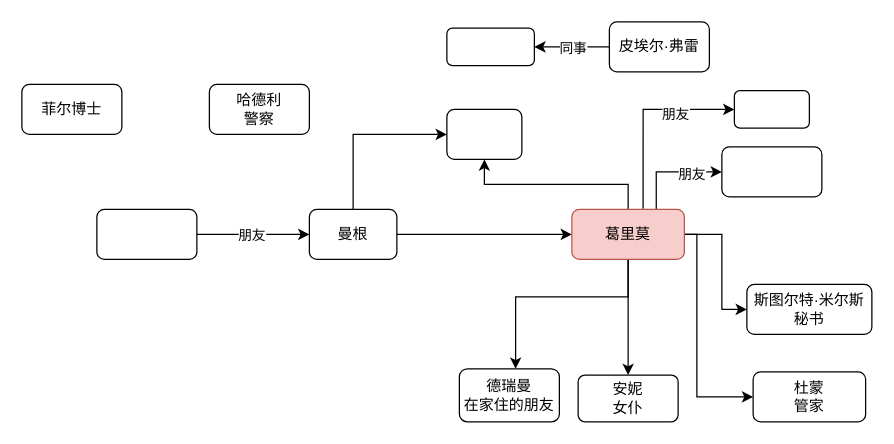
Image size: 894x444. Some labels were removed from this diagram. Each missing label, with the box of its shape:
佩蒂斯: (733, 89, 809, 128)
兰波: (96, 208, 197, 259)
杰罗姆·伯纳比: (721, 146, 822, 197)
欧洛克: (446, 27, 534, 66)
萝赛特 女儿: (446, 108, 522, 159)
